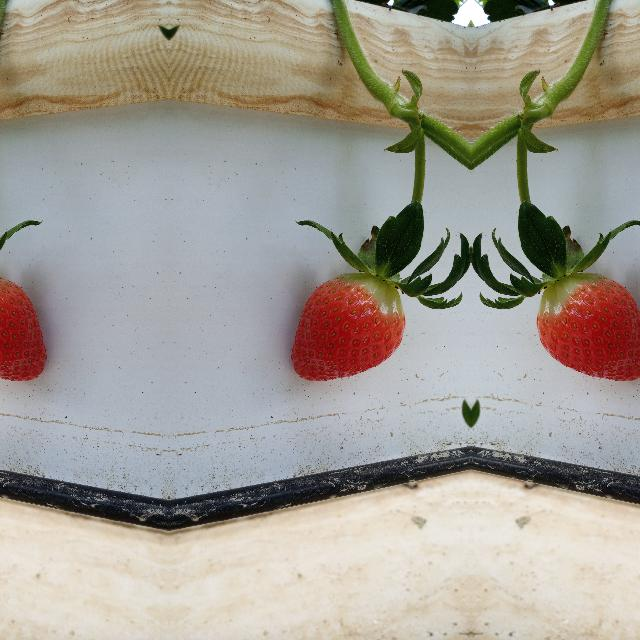Health_100: (289, 272, 405, 382), (536, 272, 640, 382), (0, 272, 47, 382)
